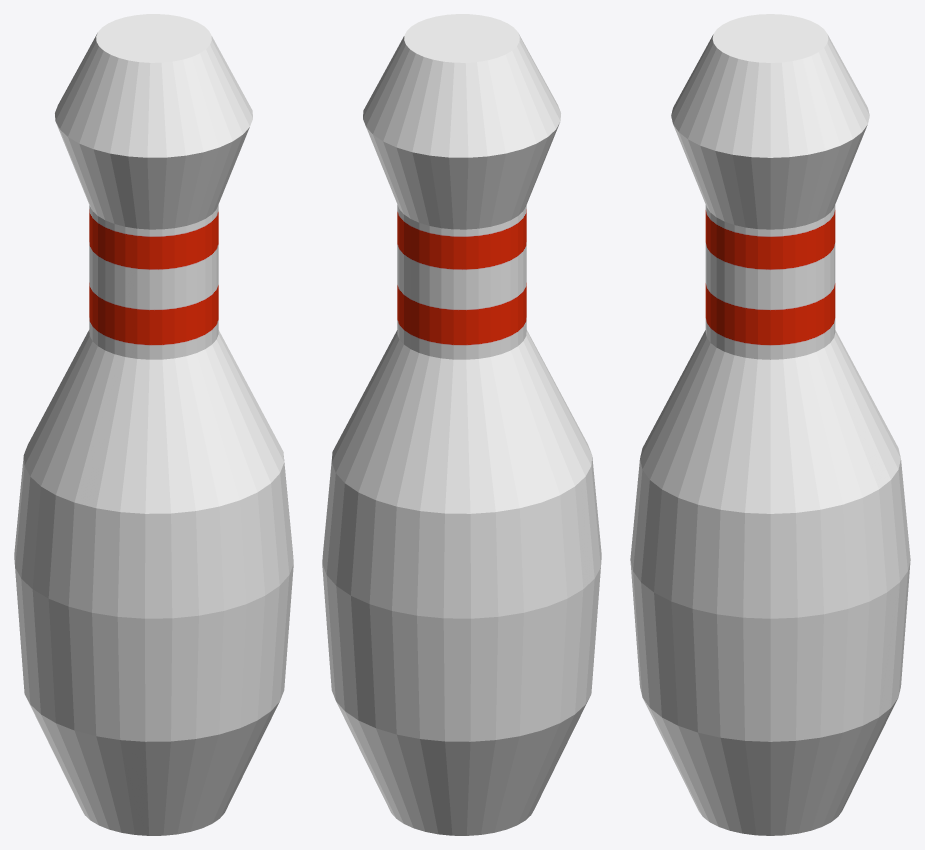
The model's file is Pin.fbx.
The picture shows the model from 3 angles, left to right: view 1: azimuth 30°, elevation 25°; view 2: azimuth 150°, elevation 25°; view 3: azimuth 270°, elevation 25°; orthographic projection.
Visible parts, largest first — view 1: Cylinder; view 2: Cylinder; view 3: Cylinder.
Boxes of the visible parts, x1=… form: Cylinder: x1=14, y1=14, x2=293, y2=835; Cylinder: x1=322, y1=14, x2=601, y2=835; Cylinder: x1=630, y1=14, x2=910, y2=835.
Size of the model in its own units: 2.15 by 6.48 by 2.15.
1 material, 1 textured.
